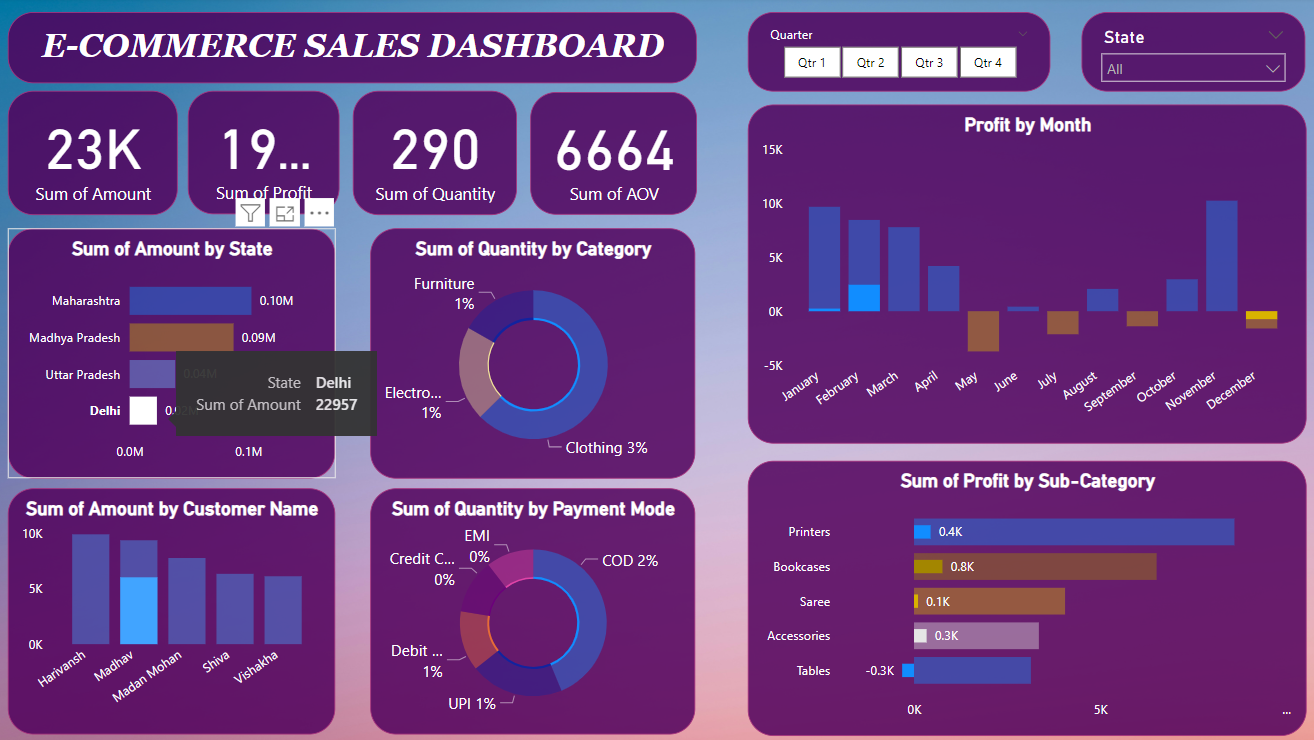

This screenshot's page, from the dashboard's own definition file:
{"tool":"powerbi","page":{"name":"Page 1","canvas":[1280,720],"ordinal":0},"visuals":[{"type":"textbox","box":[13.3,14.5,664.5,68.7],"z":0},{"type":"columnChart","title":"Profit by Month","fields":{"Category":["Orders.Order Date.Variation.Date Hierarchy.Month"],"Y":["Sum(Details.Profit)"]},"box":[727.2,103.7,539.1,326.8],"z":1000},{"type":"barChart","fields":{"Category":["Details.Sub-Category"],"Y":["Sum(Details.Profit)"]},"box":[726,445,539.1,266.5],"z":2000},{"type":"donutChart","fields":{"Category":["Details.Category"],"Y":["Sum(Details.Quantity)"]},"box":[363,223.1,313.6,241.2],"z":3000},{"type":"donutChart","title":"Sum of Quantity by Payment Mode","fields":{"Y":["Sum(Details.Quantity)"],"Category":["Details.PaymentMode"]},"box":[362.5,473.9,313.6,238.6],"z":4000},{"type":"card","fields":{"Values":["Sum(Details.Amount)"]},"box":[13,91,164,120],"z":5000},{"type":"card","fields":{"Values":["Sum(Details.Quantity)"]},"box":[346,90,158,120],"z":6000},{"type":"card","fields":{"Values":["Sum(Details.Profit)"]},"box":[187,91,146,119],"z":7000},{"type":"card","fields":{"Values":["Sum(Details.AOV)"]},"box":[517,92,161,118],"z":8000},{"type":"barChart","fields":{"Category":["Orders.State"],"Y":["Sum(Details.Amount)"]},"box":[13.3,223.1,316,241.2],"z":9000},{"type":"columnChart","title":"Sum of Amount by Customer Name","fields":{"Category":["Orders.CustomerName"],"Y":["Sum(Details.Amount)"]},"box":[13.6,473.9,315.9,238.6],"z":10000},{"type":"slicer","fields":{"Values":["Orders.Order Date.Variation.Date Hierarchy.Quarter"]},"box":[727.2,14.5,291.9,77.2],"z":11000},{"type":"slicer","fields":{"Values":["Orders.State"]},"box":[1049.2,14.5,215.9,77.2],"z":12000}]}

Visuals, with their boxes in screenshot pixels (x1, y1, x2, y2), scaled from the page's 1280x720 canvas onto the 1314x740 screenshot:
textbox: 14:15:696:86
"Profit by Month" columnChart: 747:107:1300:442
barChart - Details.Sub-Category x Sum(Details.Profit): 745:457:1299:731
donutChart - Details.Category x Sum(Details.Quantity): 373:229:695:477
"Sum of Quantity by Payment Mode" donutChart: 372:487:694:732
card - Sum(Details.Amount): 13:94:182:217
card - Sum(Details.Quantity): 355:92:517:216
card - Sum(Details.Profit): 192:94:342:216
card - Sum(Details.AOV): 531:95:696:216
barChart - Orders.State x Sum(Details.Amount): 14:229:338:477
"Sum of Amount by Customer Name" columnChart: 14:487:338:732
slicer - Orders.Order Date.Variation.Date Hierarchy.Quarter: 747:15:1046:94
slicer - Orders.State: 1077:15:1299:94
